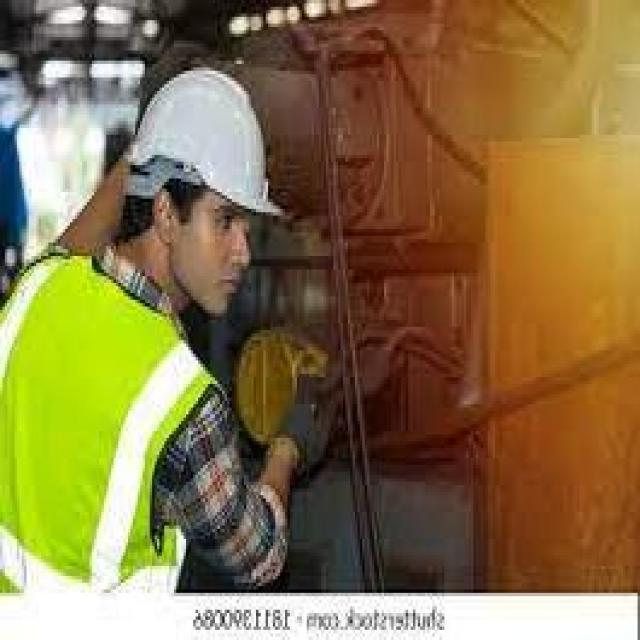Reflective-Jacket: (2, 256, 224, 593)
Safety-Helmet: (128, 61, 287, 226)
